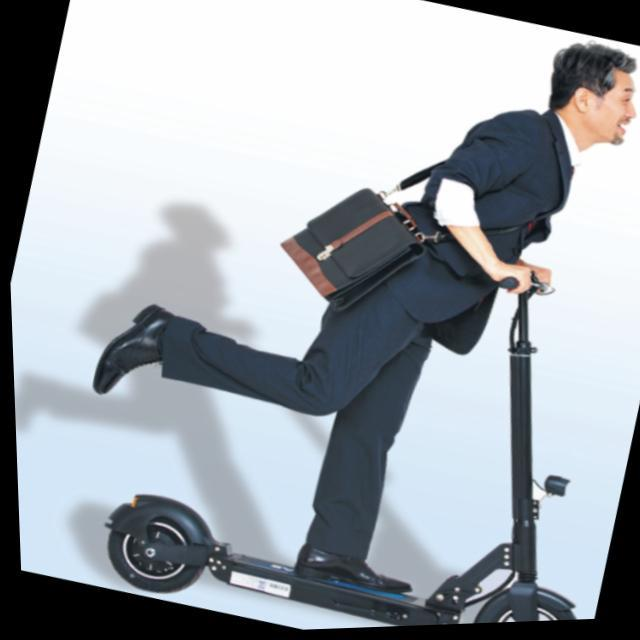Nonhelmet: (543, 36, 640, 145)
